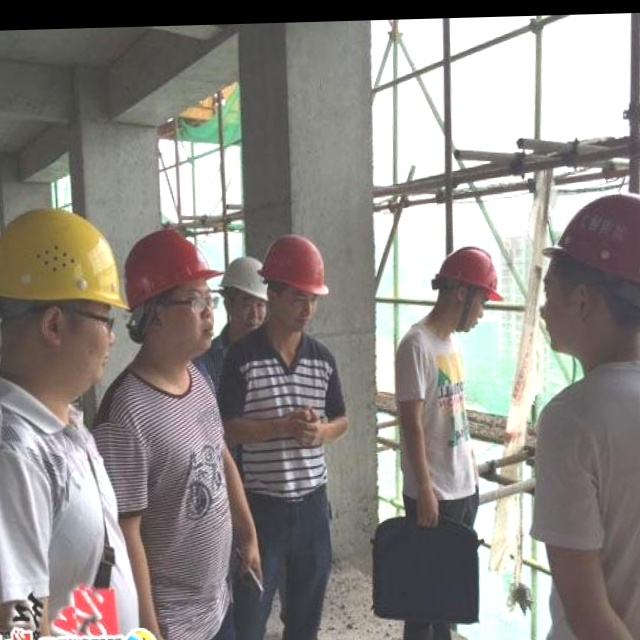Con_Casco: (0, 205, 118, 391)
Sin_Chaleco: (228, 328, 346, 497)
